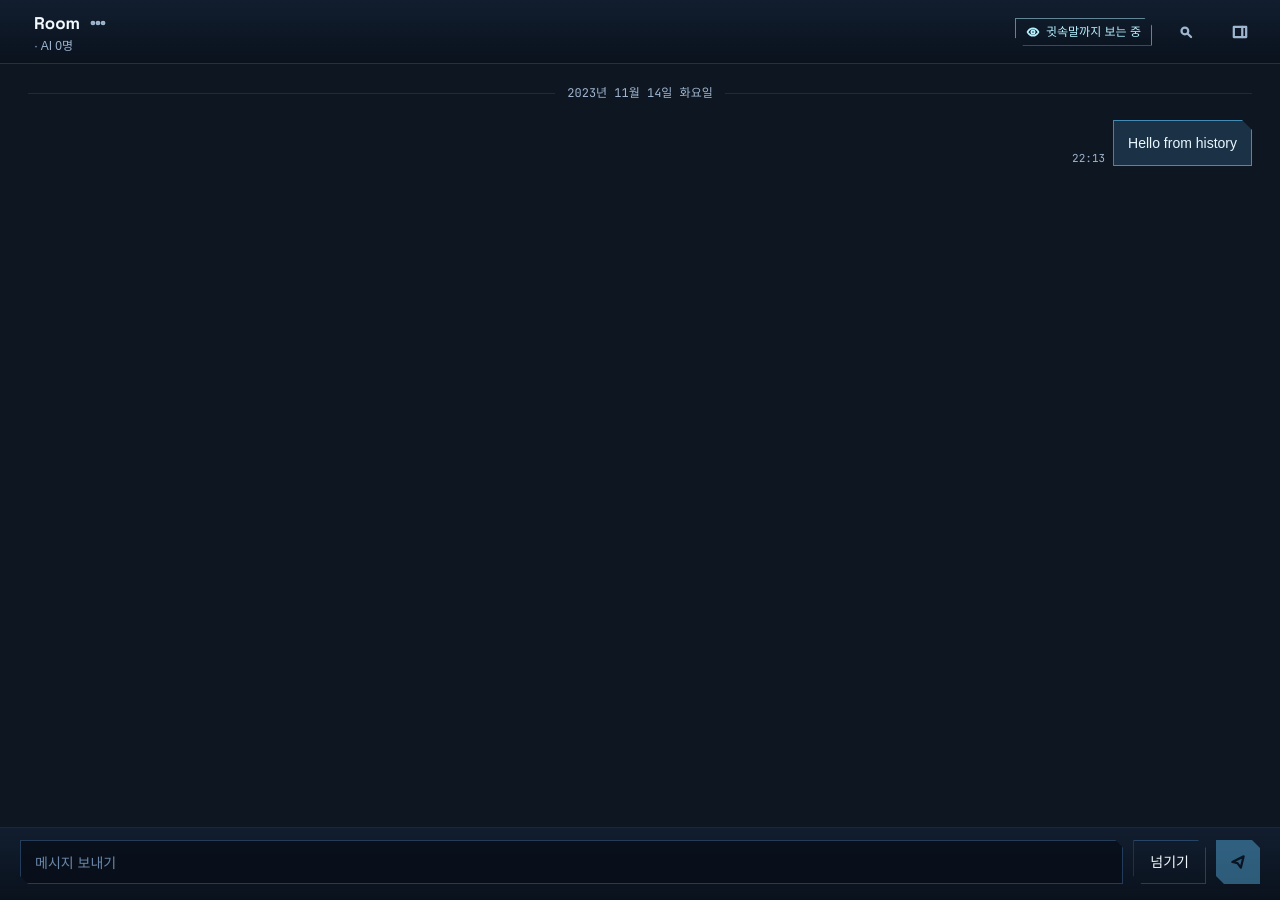
Test: chat thread › keeps the room-info drawer closed until the header toggle opens it
The width and height of the screenshot is (1280, 900).
Step 1. Click the button with test id "room-info-toggle" → {"x": 1240, "y": 32}, box [1220,12,1260,52]
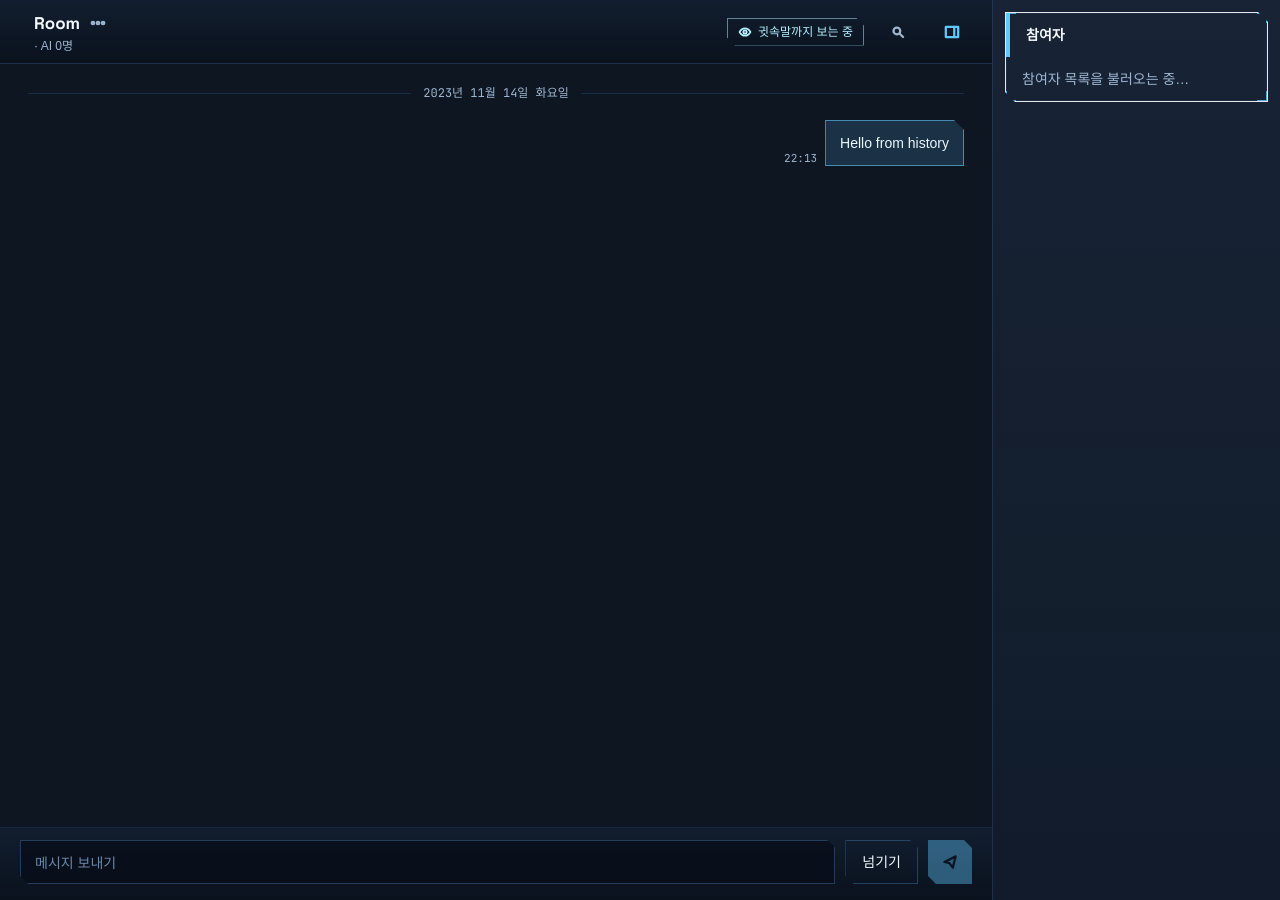
Now the button with test id "room-info-toggle" is expanded
Now the element with test id "messenger-member-panel" is shown, box [992,0,1279,899]
Step 2. Click the button with test id "room-info-toggle" → {"x": 952, "y": 32}, box [932,12,972,52]
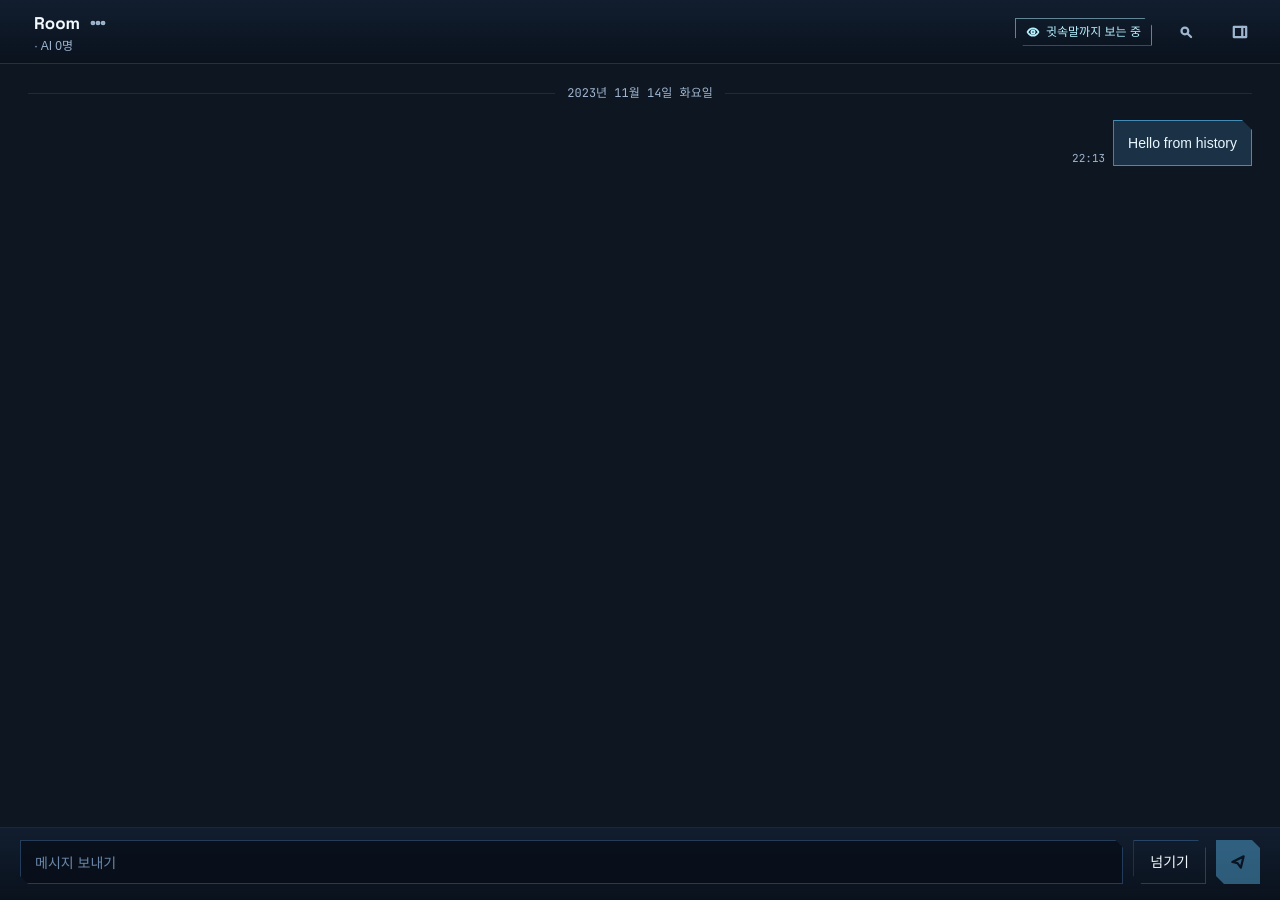
Now the element with test id "messenger-member-panel" is gone
